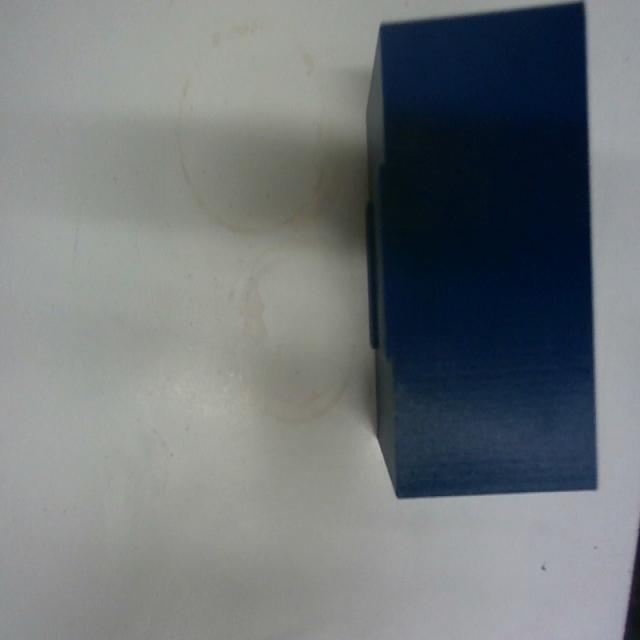Blue Cuboid: (361, 0, 599, 500)
